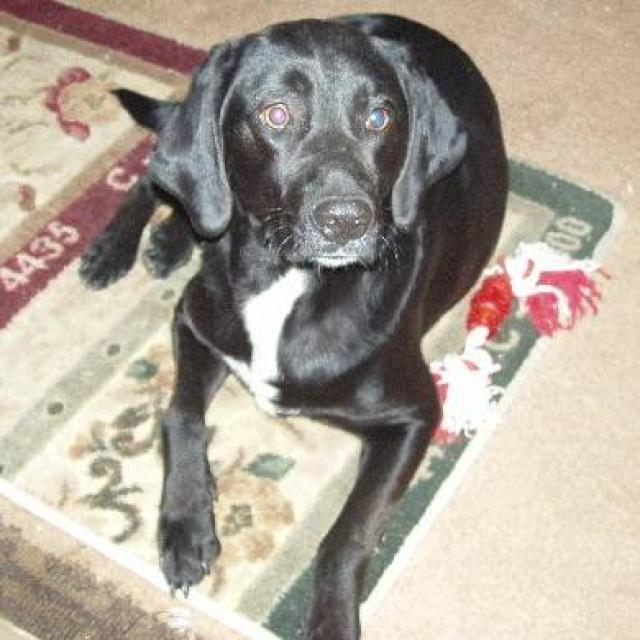dog: (76, 11, 510, 638)
